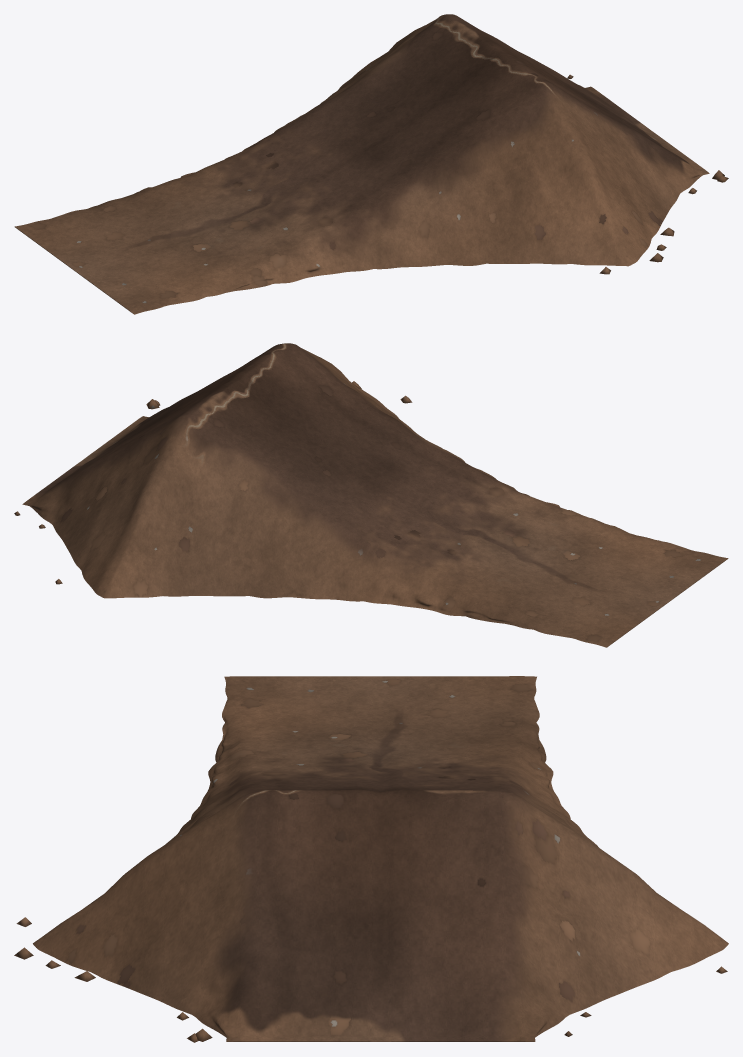
Rendered from DR_Prop_JumpRamp.fbx.
3 renders of one model, top to bottom at view 1: azimuth 30°, elevation 25°; view 2: azimuth 150°, elevation 25°; view 3: azimuth 270°, elevation 25°, orthographic. The views are drawn at different scales.
Visible parts, largest first — view 1: DR_Prop_JumpRamp; view 2: DR_Prop_JumpRamp; view 3: DR_Prop_JumpRamp.
Part boxes in pixels (bbox=[...]): DR_Prop_JumpRamp: bbox=[14, 14, 728, 314]; DR_Prop_JumpRamp: bbox=[14, 343, 728, 647]; DR_Prop_JumpRamp: bbox=[14, 676, 728, 1042].
Bounding box in the file's own units: 2.59 × 0.502 × 2.11.
Materials: 1 (1 with a texture image).
